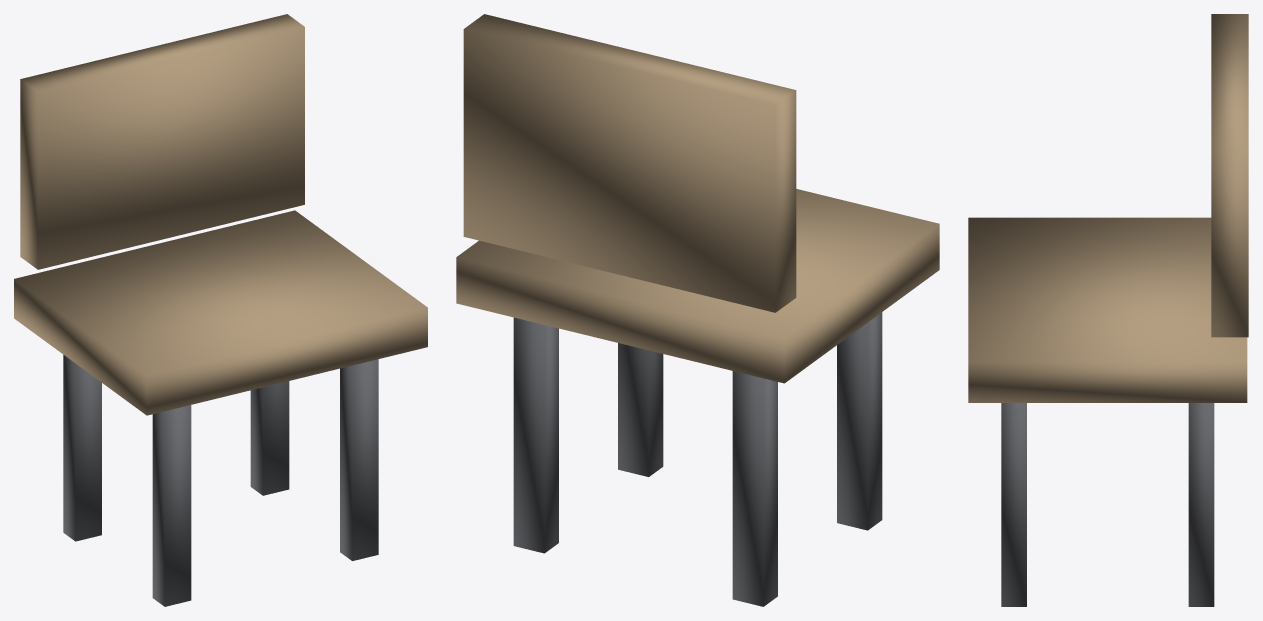
Rendered from school_chair__wide.glb.
The picture shows the model from 3 angles, left to right: view 1: azimuth 30°, elevation 25°; view 2: azimuth 150°, elevation 25°; view 3: azimuth 270°, elevation 25°; orthographic projection. The views are drawn at different scales.
Visible parts, largest first — view 1: world; view 2: world; view 3: world.
Part boxes in pixels (bbox=[...]): world: bbox=[14, 14, 427, 606]; world: bbox=[456, 14, 939, 606]; world: bbox=[968, 14, 1248, 606].
Size of the model in its own units: 0.5956 by 0.9072 by 0.4902.
